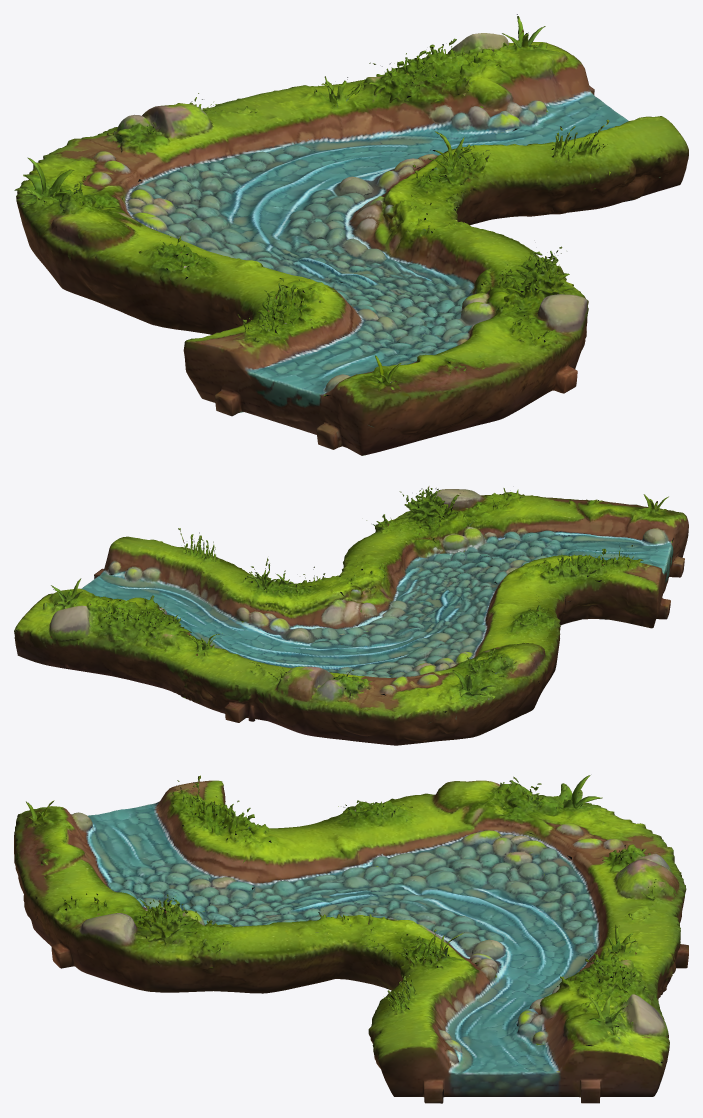
File: Meandering_River_Isla.fbx
The picture shows the model from 3 angles, top to bottom: view 1: azimuth 30°, elevation 25°; view 2: azimuth 150°, elevation 25°; view 3: azimuth 270°, elevation 25°; orthographic projection. The views are drawn at different scales.
Visible parts, largest first — view 1: Meandering_River_Isla_LOD0; view 2: Meandering_River_Isla_LOD0; view 3: Meandering_River_Isla_LOD0.
Part boxes in pixels (x1=…): Meandering_River_Isla_LOD0: x1=14, y1=14, x2=688, y2=455; Meandering_River_Isla_LOD0: x1=14, y1=486, x2=688, y2=745; Meandering_River_Isla_LOD0: x1=14, y1=775, x2=688, y2=1103.
Size of what is drawn, in the model's own units: 1.81 by 0.2543 by 1.9.
1 material, 1 textured.
